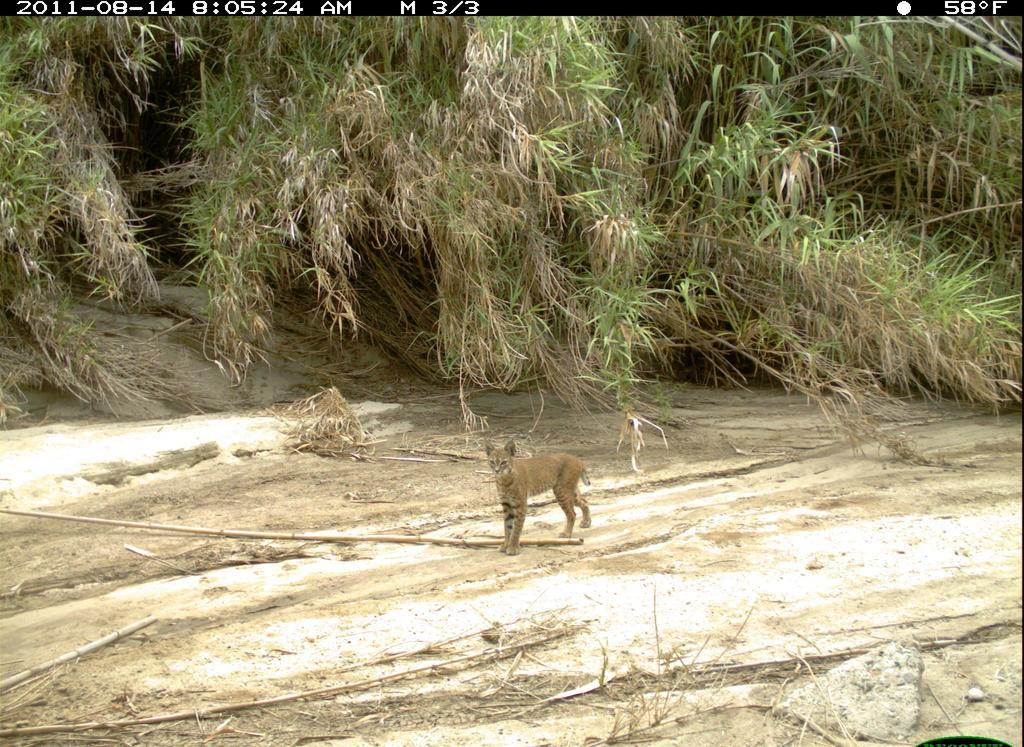bobcat: (471, 431, 601, 559)
